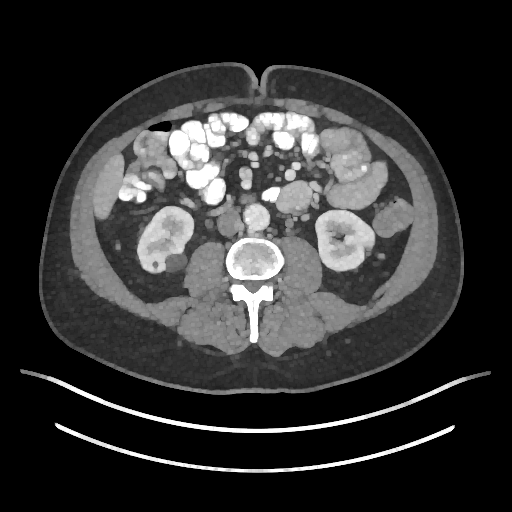Lesion: (160, 251, 189, 275)
